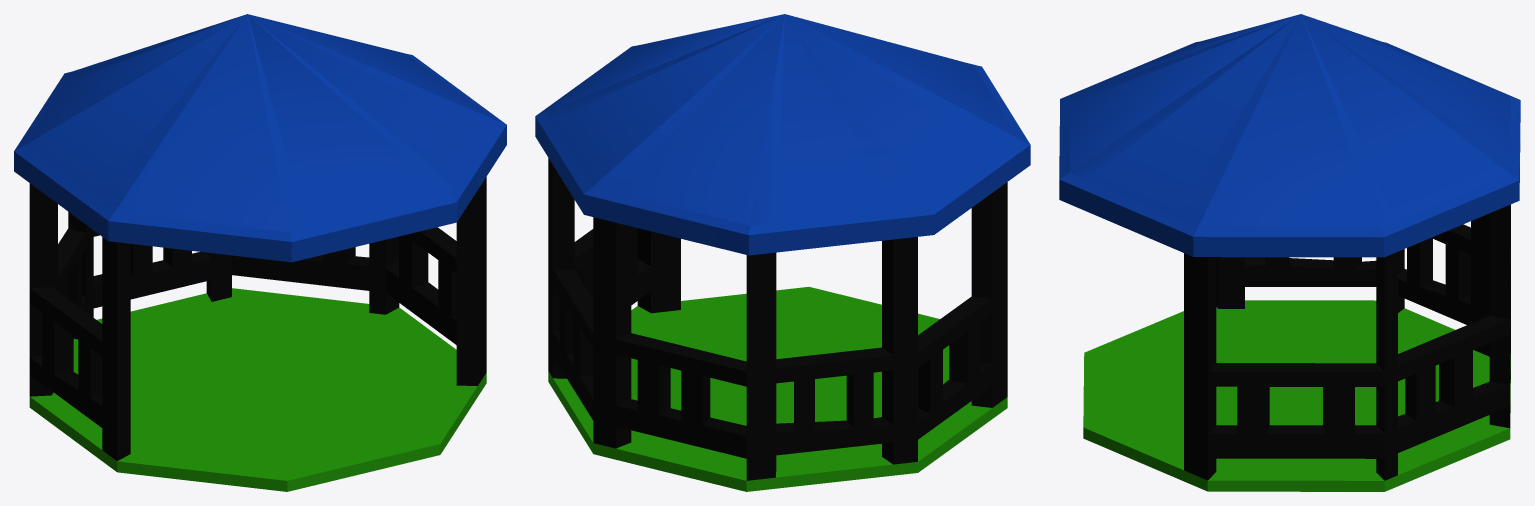
File: Gazebo_HT.fbx
3 renders of one model, left to right at view 1: azimuth 30°, elevation 25°; view 2: azimuth 150°, elevation 25°; view 3: azimuth 270°, elevation 25°, orthographic.
Visible parts, largest first — view 1: Gazebo_HT; view 2: Gazebo_HT; view 3: Gazebo_HT.
Boxes of the visible parts, box(x1,y1,x2,y2) form: Gazebo_HT: box(14, 14, 506, 491); Gazebo_HT: box(535, 14, 1030, 491); Gazebo_HT: box(1059, 14, 1520, 491).
Size of the model in its own units: 642 by 589 by 643.
